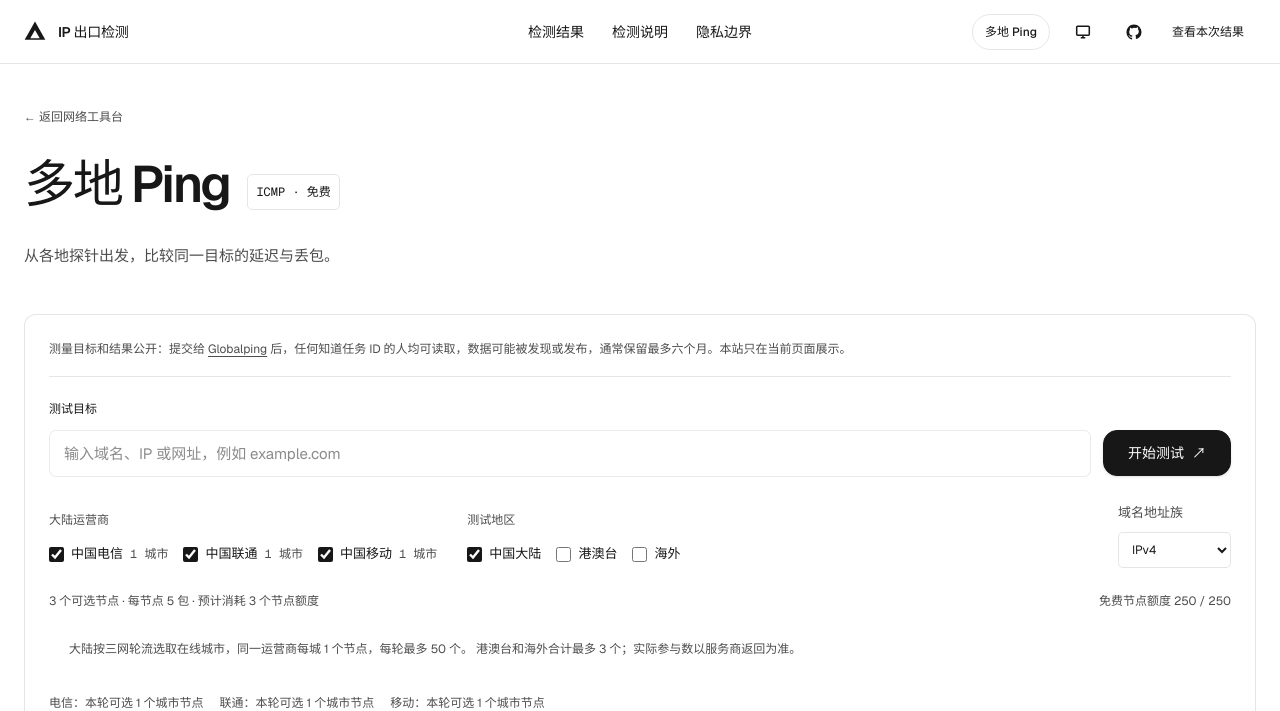
Test: 多地 Ping 独立页面 › 节点数据损坏只让该节点无法判断，不吞掉其他成功证据
Expected: the text "3 个可选节点 · 每节点 5 包 · 预计消耗 3 个节点额度" is shown, [49, 590, 319, 614]
Type "example.com" into the field labelled "测试目标". click: (570, 454)
box: [49, 430, 1091, 478]
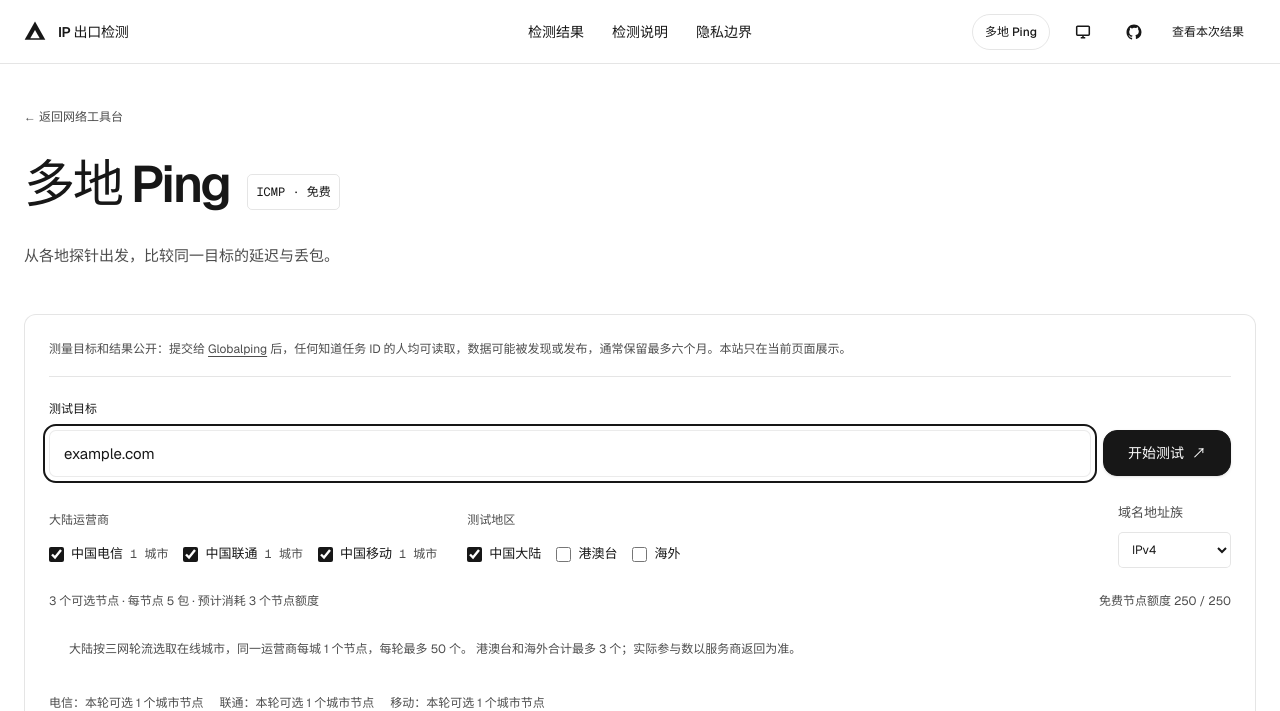
Click the button "开始测试 ↗". click: (1167, 454)
box: [1103, 430, 1231, 476]
(page scrolled)
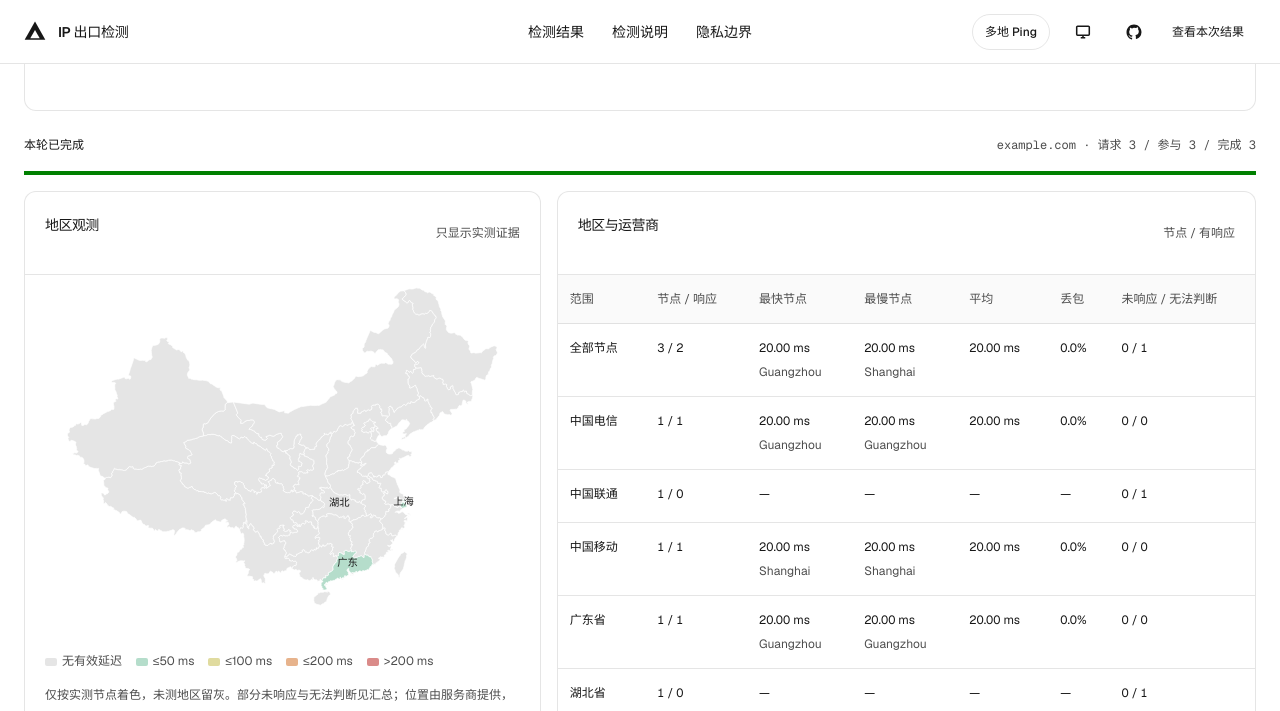
Now the text "本轮已完成" is shown, box [24, 135, 84, 156]
Now the text "0 / 1" in the row of "全部节点" is shown, box [1110, 324, 1255, 397]
